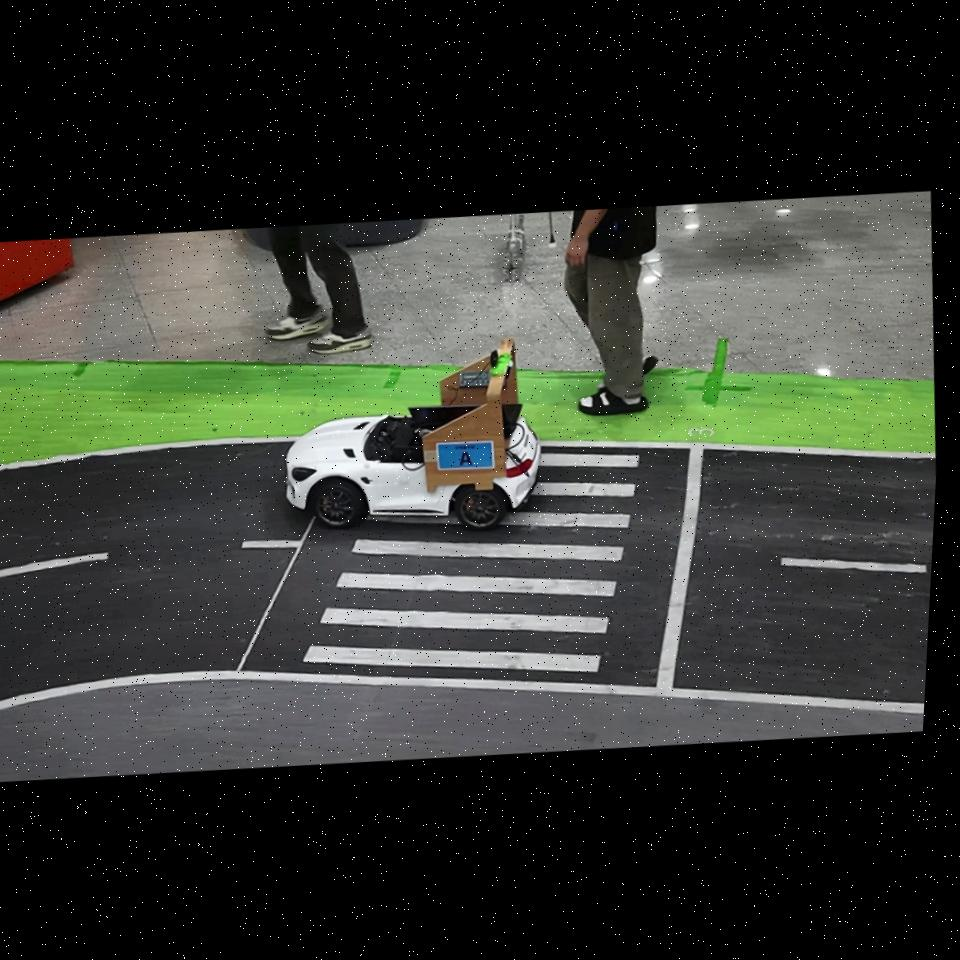broken_line: (0, 553, 108, 578), (781, 557, 927, 573), (241, 540, 301, 548)
crosswalk: (303, 453, 639, 673)
